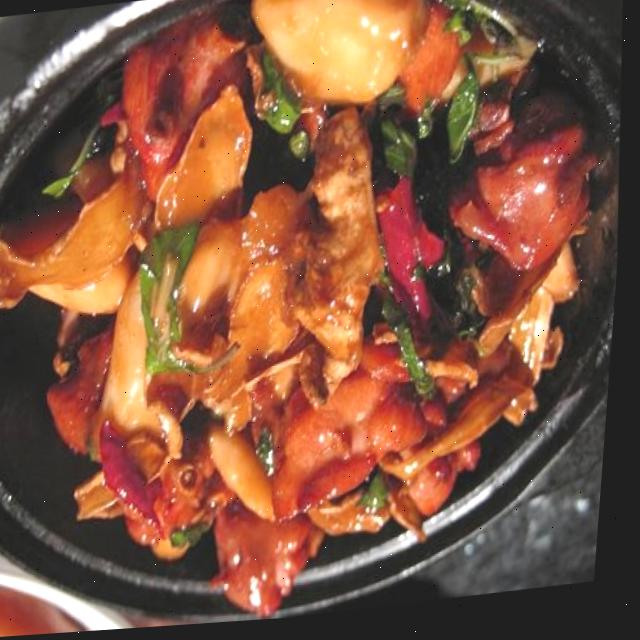鸡肉料理 含炸鸡: (0, 0, 627, 631)
